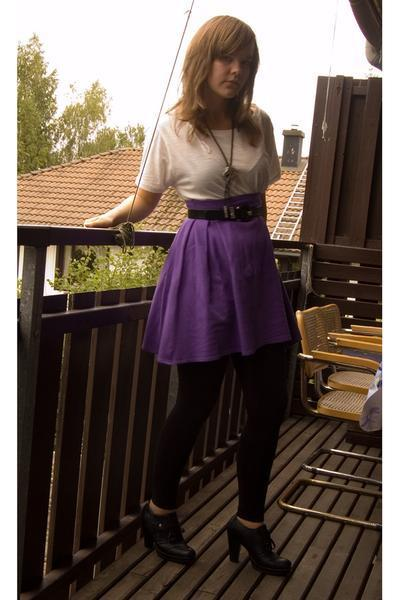dress: (133, 110, 299, 371)
pants: (144, 336, 312, 522)
shoe: (138, 499, 299, 587)
